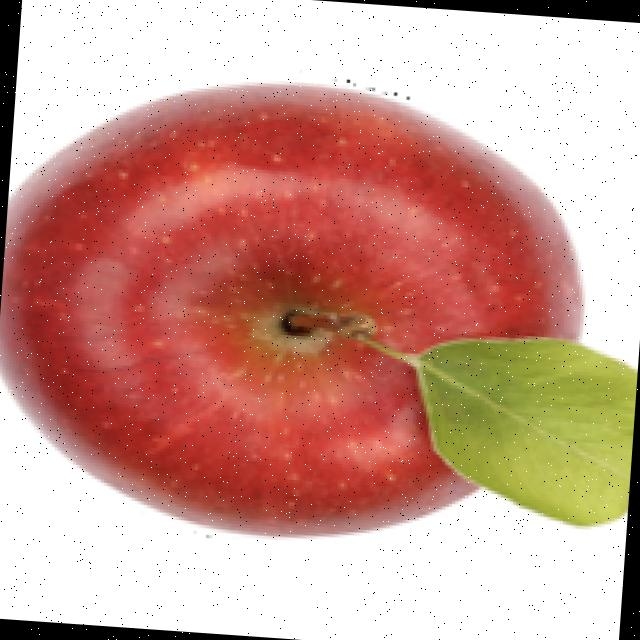apple: (0, 77, 634, 543)
